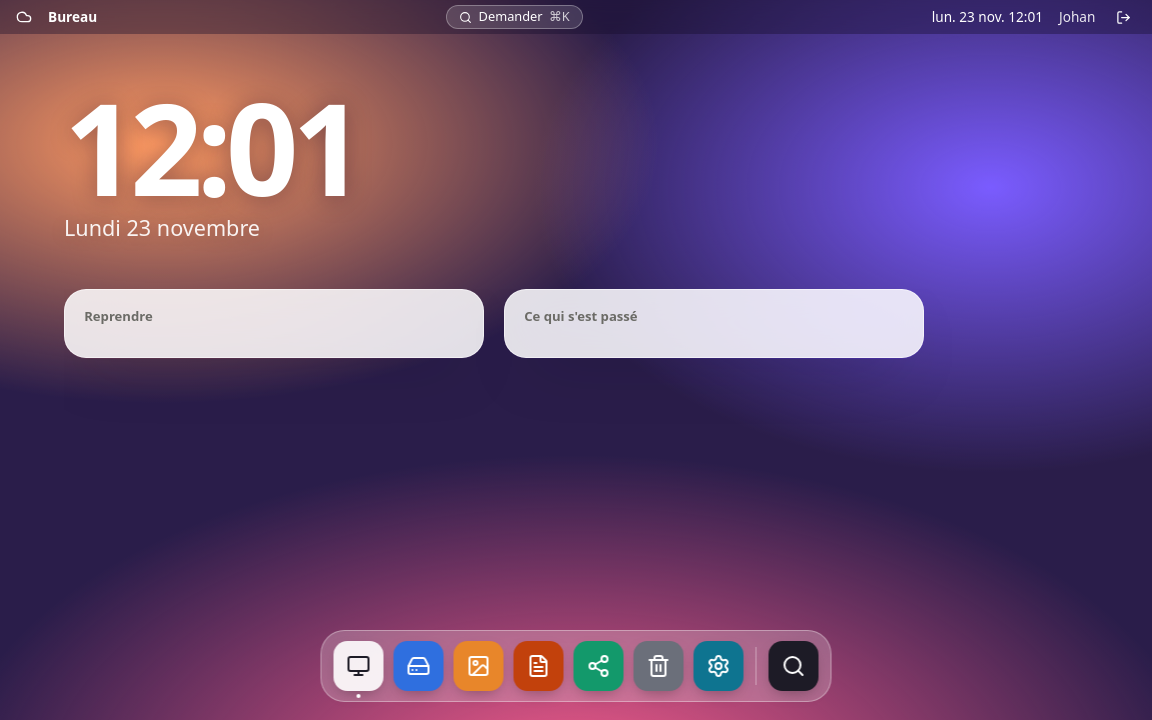
Scenario: Réglages › is in the dock of every member, at /reglages
Click the button named "Réglages" at (718, 666), box [694, 641, 744, 691]
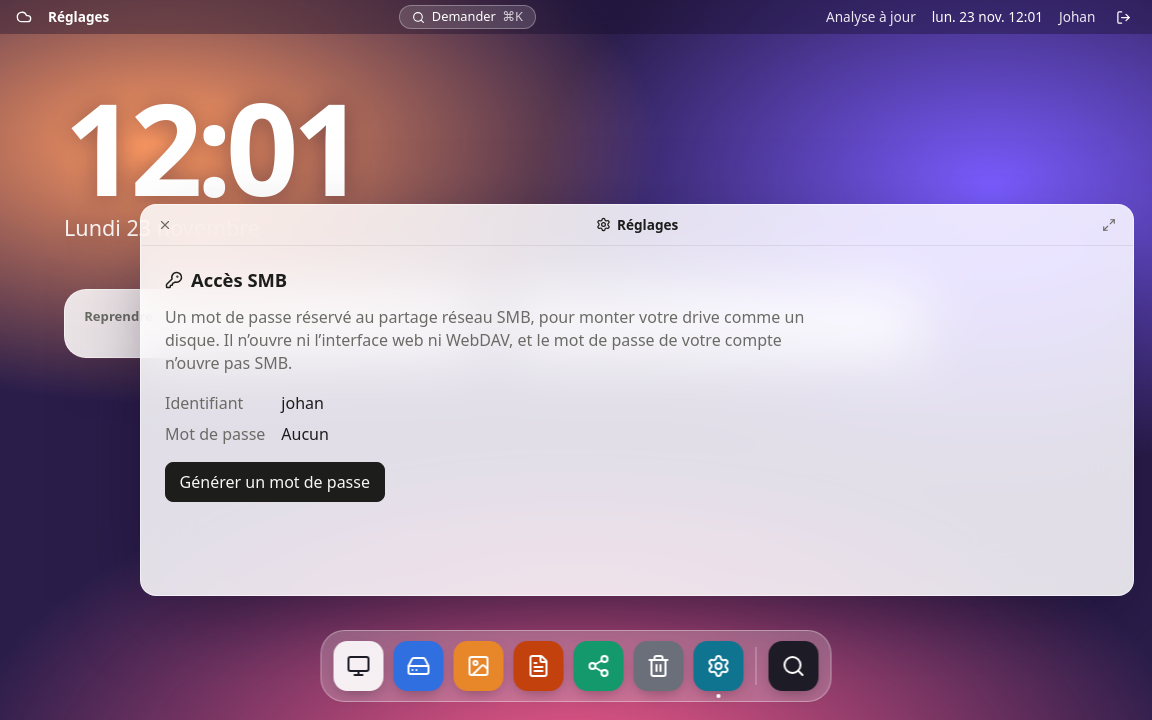
Expected: the heading "Accès SMB" is shown, [165, 267, 287, 292]
